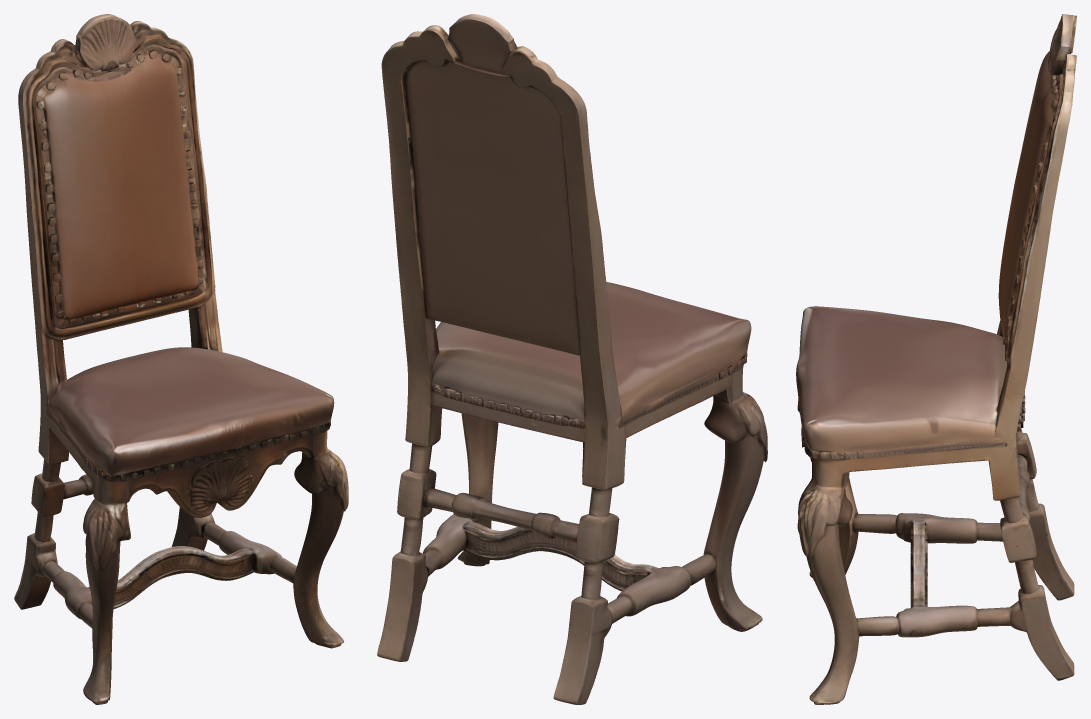
3 renders of one model, left to right at view 1: azimuth 30°, elevation 25°; view 2: azimuth 150°, elevation 25°; view 3: azimuth 270°, elevation 25°, orthographic. The views are drawn at different scales.
Parts seen in each view (by area): view 1: root.0, root.1, root.2, root.3, root.5, root.6, root.4, root.7, root.9, root.10, root.14, root.8 (+1 smaller); view 2: root.0, root.1, root.3, root.4, root.6, root.2, root.10, root.7, root.11, root.12, root.14, root.8 (+3 smaller); view 3: root.1, root.4, root.0, root.5, root.2, root.9, root.8, root.11, root.13, root.10, root.7, root.6 (+2 smaller).
Part boxes in pixels (x1=…): root.0: x1=32, y1=14, x2=209, y2=340; root.1: x1=44, y1=347, x2=334, y2=475; root.2: x1=44, y1=404, x2=330, y2=518; root.3: x1=18, y1=39, x2=83, y2=464; root.5: x1=293, y1=448, x2=348, y2=648; root.6: x1=83, y1=499, x2=130, y2=704; root.4: x1=130, y1=21, x2=222, y2=352; root.7: x1=87, y1=546, x2=254, y2=608; root.9: x1=201, y1=521, x2=296, y2=582; root.10: x1=14, y1=533, x2=57, y2=609; root.14: x1=31, y1=459, x2=64, y2=541; root.8: x1=42, y1=560, x2=92, y2=628; root.0: x1=404, y1=14, x2=579, y2=355; root.1: x1=431, y1=282, x2=751, y2=425; root.3: x1=501, y1=46, x2=626, y2=489; root.4: x1=381, y1=25, x2=457, y2=447; root.6: x1=703, y1=392, x2=767, y2=631; root.2: x1=426, y1=352, x2=747, y2=441; root.10: x1=553, y1=596, x2=612, y2=704; root.7: x1=462, y1=521, x2=658, y2=591; root.11: x1=377, y1=551, x2=427, y2=661; root.12: x1=423, y1=487, x2=579, y2=542; root.14: x1=575, y1=487, x2=619, y2=599; root.8: x1=607, y1=553, x2=715, y2=623; root.1: x1=796, y1=306, x2=1021, y2=459; root.4: x1=988, y1=54, x2=1076, y2=500; root.0: x1=998, y1=14, x2=1072, y2=366; root.5: x1=797, y1=478, x2=859, y2=704; root.2: x1=801, y1=391, x2=1025, y2=487; root.9: x1=856, y1=605, x2=1011, y2=637; root.8: x1=853, y1=513, x2=1002, y2=543; root.11: x1=1010, y1=585, x2=1074, y2=680; root.13: x1=1000, y1=497, x2=1038, y2=593; root.10: x1=1029, y1=503, x2=1074, y2=600; root.7: x1=910, y1=520, x2=927, y2=607; root.6: x1=797, y1=395, x2=858, y2=580.
Size of the model in its own units: 0.5434 by 1.15 by 0.4699.
Materials: 15 (15 with a texture image).
